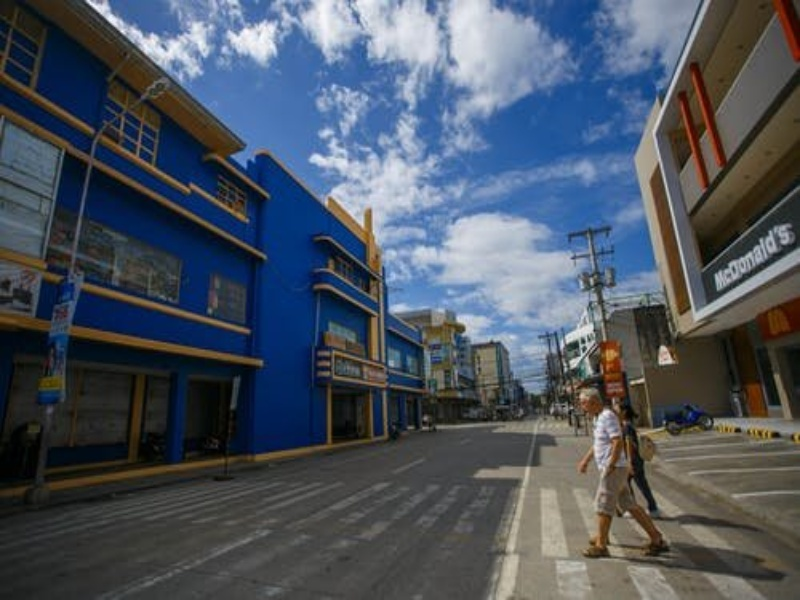zebra cross: (74, 480, 753, 553), (478, 423, 569, 432)
